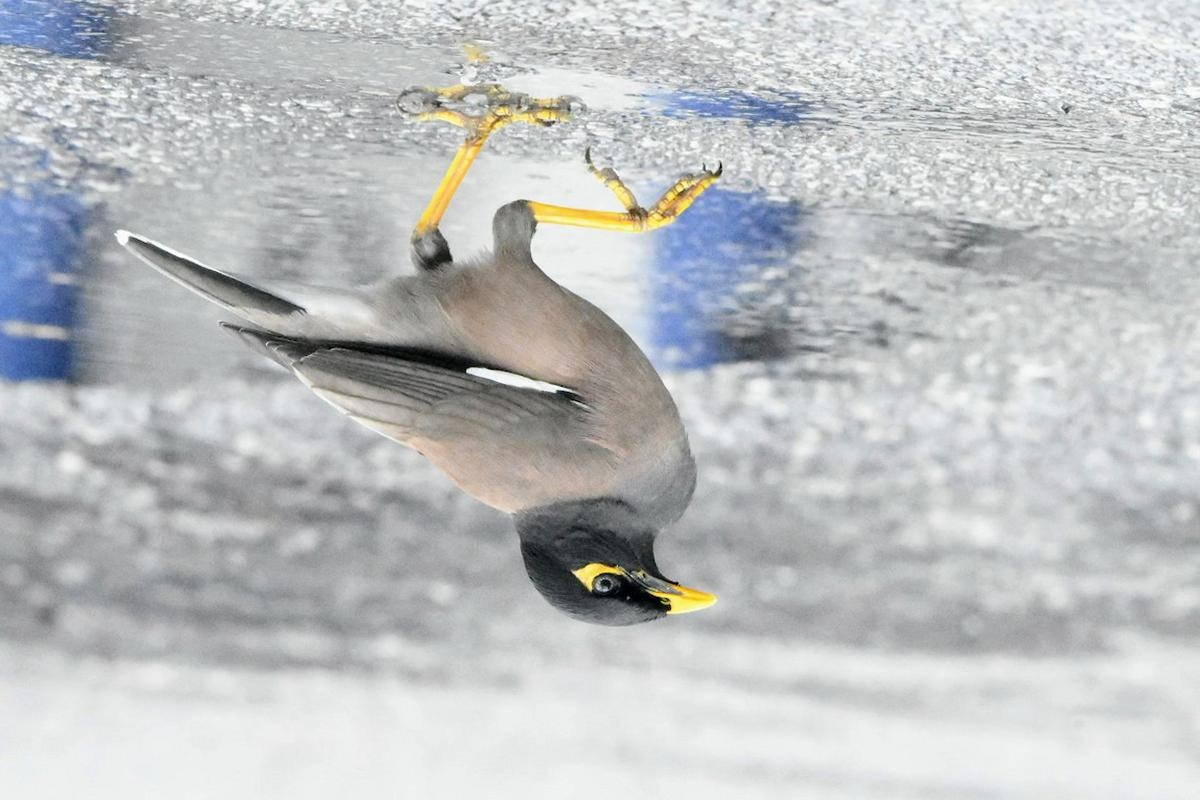myna: (190, 37, 755, 681)
